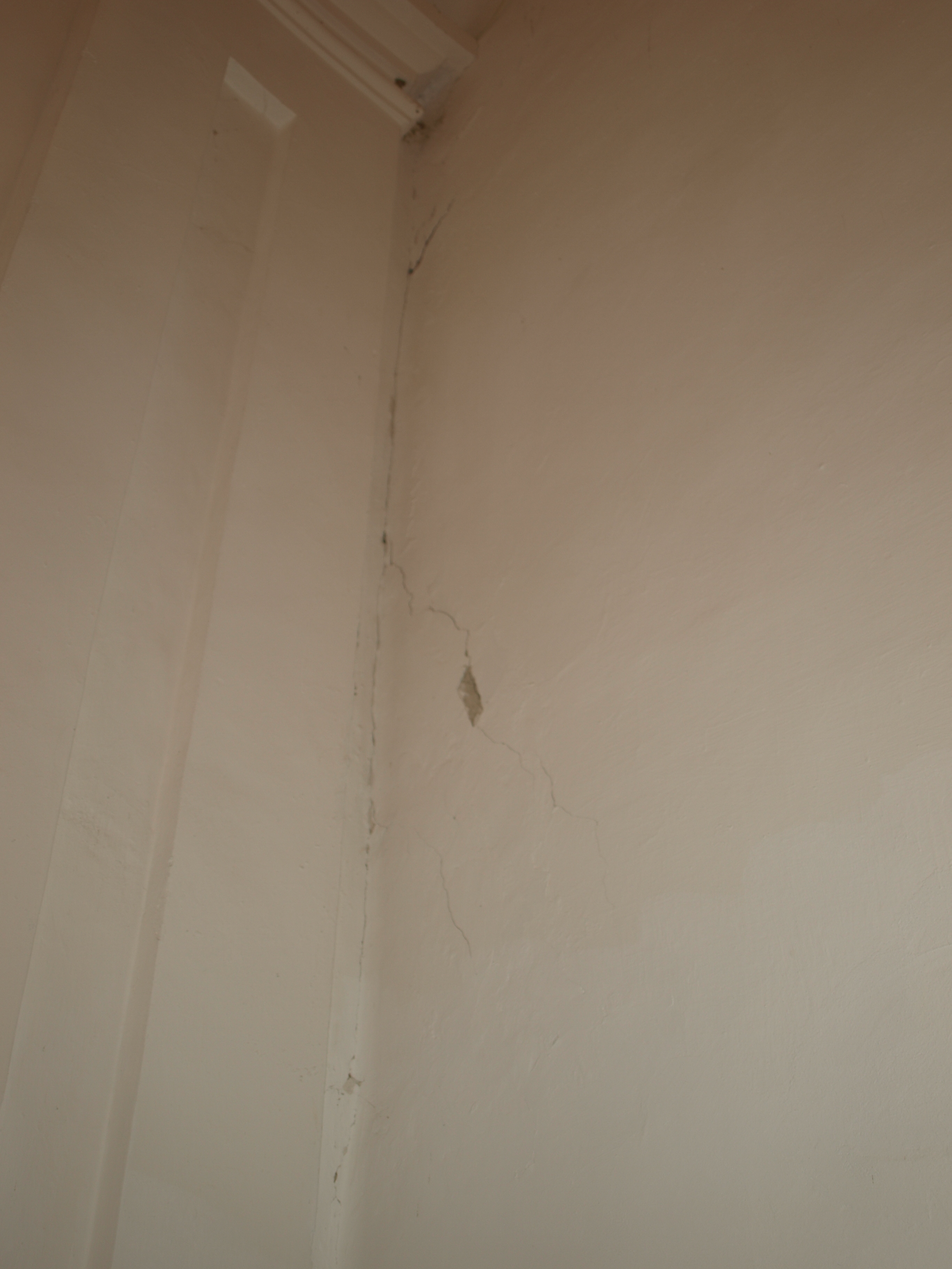Crack: (286, 89, 432, 1226), (381, 543, 660, 999)
